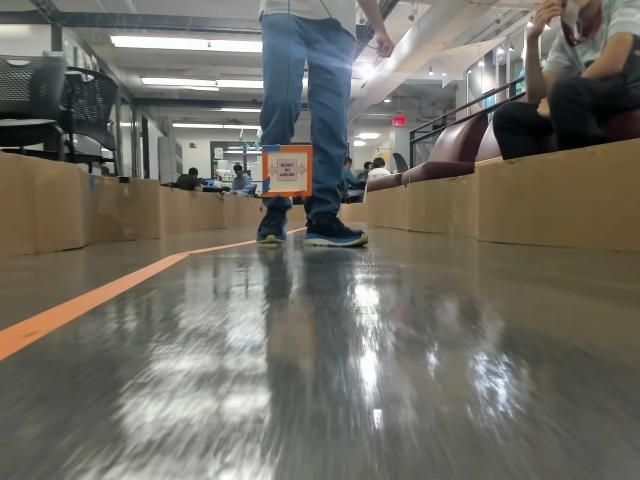Do Not Go Around: (269, 158, 306, 179)
